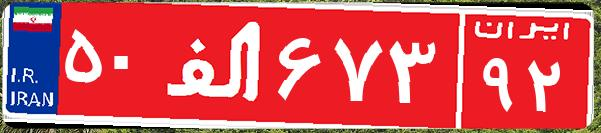0: (110, 28, 158, 105)
2: (525, 38, 570, 115)
3: (385, 28, 445, 110)
5: (57, 26, 110, 107)
6: (273, 28, 330, 110)
7: (330, 28, 385, 110)
9: (475, 38, 525, 113)
الف: (158, 15, 273, 115)
